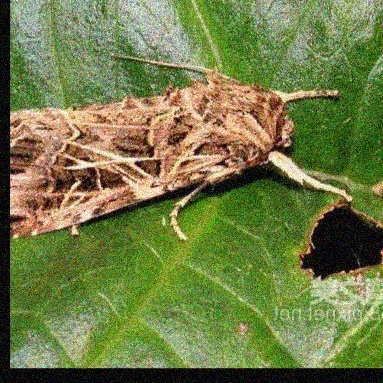Spodoptera litura: (10, 53, 353, 242)
